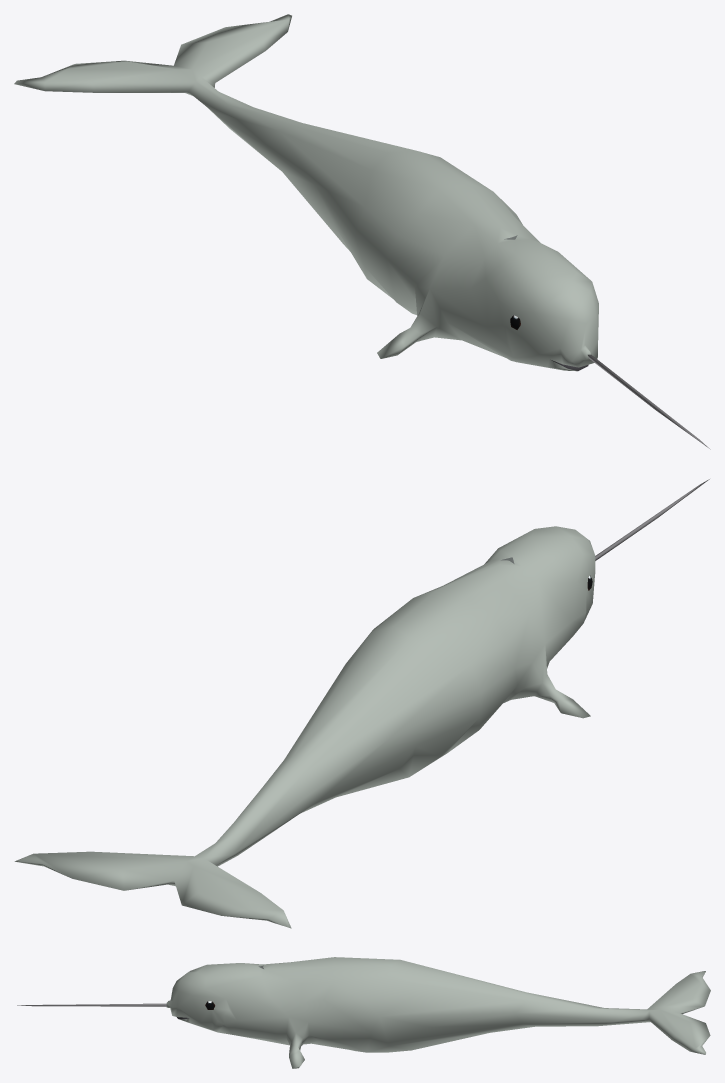
The model's file is d5080832-54e3-4da3-aca7-d50d3391809e.glb.
3 renders of one model, top to bottom at view 1: azimuth 30°, elevation 25°; view 2: azimuth 150°, elevation 25°; view 3: azimuth 270°, elevation 25°, orthographic. The views are drawn at different scales.
Parts seen in each view (by area): view 1: Narwhal; view 2: Narwhal; view 3: Narwhal.
Part boxes in pixels (<box>): Narwhal: <box>14,14,710,449</box>; Narwhal: <box>14,479,709,928</box>; Narwhal: <box>17,957,710,1068</box>.
Size of what is drawn, in the model's own units: 1.11 by 0.5493 by 3.89.
1 material, 1 textured.
